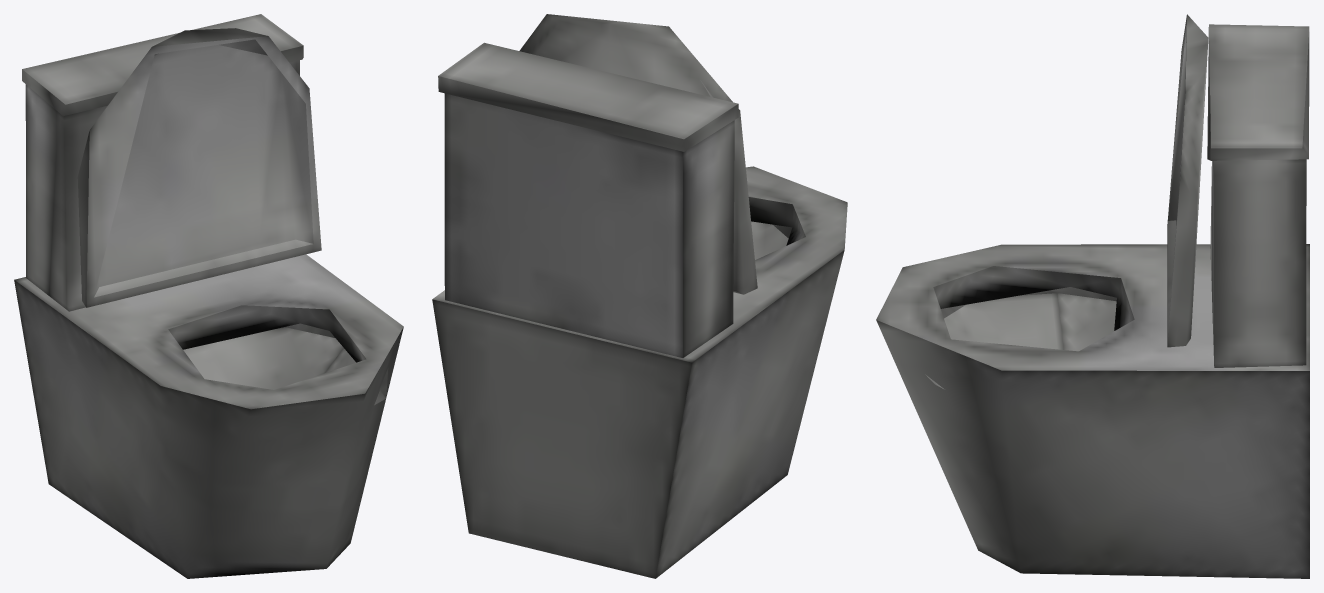
Rendered from bw-toilet.lod1.glb.
The picture shows the model from 3 angles, left to right: view 1: azimuth 30°, elevation 25°; view 2: azimuth 150°, elevation 25°; view 3: azimuth 270°, elevation 25°; orthographic projection. The views are drawn at different scales.
Parts seen in each view (by area): view 1: Prison Toilet_PrisonToilet_MTL_0; view 2: Prison Toilet_PrisonToilet_MTL_0; view 3: Prison Toilet_PrisonToilet_MTL_0.
Boxes of the visible parts, box(x1,y1,x2,y2) form: Prison Toilet_PrisonToilet_MTL_0: box(14, 14, 403, 578); Prison Toilet_PrisonToilet_MTL_0: box(432, 14, 847, 578); Prison Toilet_PrisonToilet_MTL_0: box(876, 14, 1309, 578).
Bounding box in the file's own units: 0.4592 × 0.8373 × 0.6624.
1 material, 1 textured.
